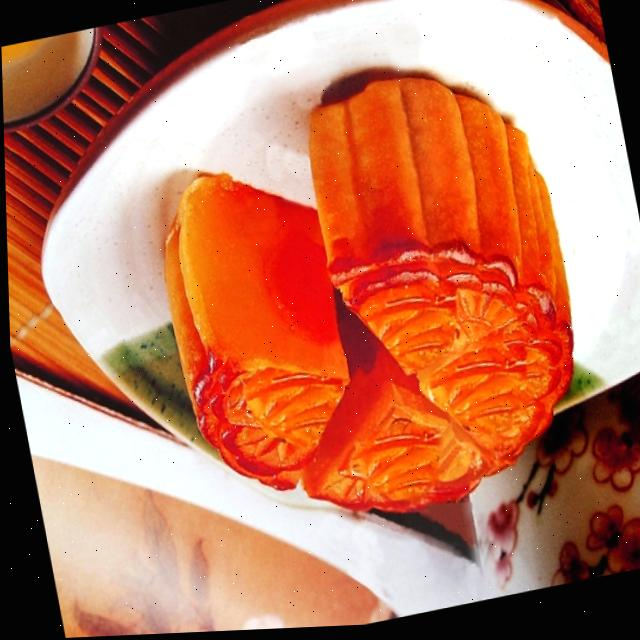蛋糕甜品: (129, 37, 623, 589)
